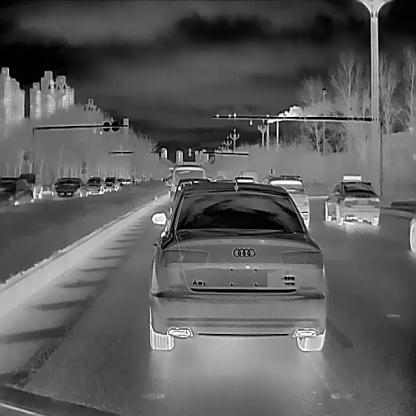car: (148, 180, 327, 351), (324, 173, 379, 224), (261, 176, 309, 231), (166, 164, 205, 210), (0, 176, 32, 205), (52, 176, 84, 200), (19, 172, 42, 200), (240, 168, 258, 192), (84, 176, 105, 195), (234, 176, 254, 192), (103, 176, 118, 192)
